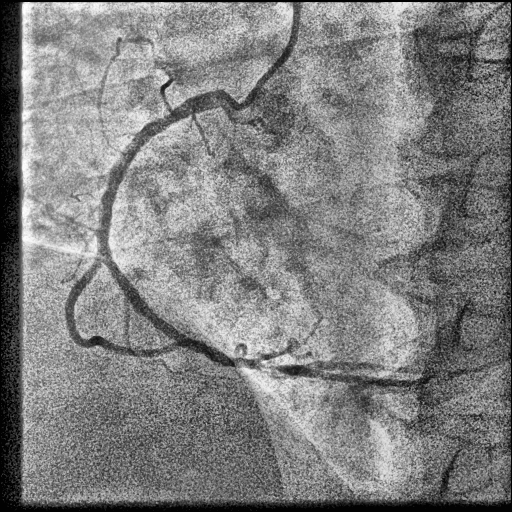pborca: (302, 358, 508, 378)
pda: (299, 367, 433, 387)
rca: (98, 89, 304, 375)
